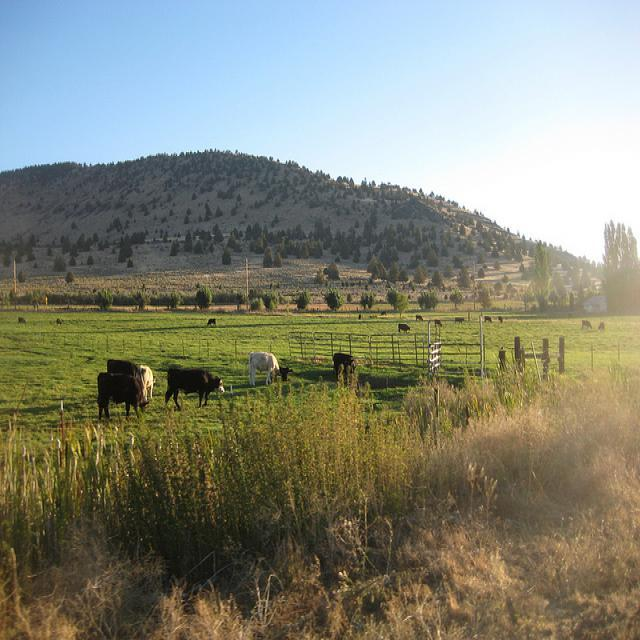cow: (94, 369, 147, 420), (163, 367, 223, 408), (248, 351, 291, 385), (105, 357, 140, 380), (331, 351, 352, 377), (138, 364, 152, 399), (396, 321, 411, 331), (579, 318, 591, 330), (207, 316, 217, 324), (16, 315, 24, 321), (415, 312, 421, 319), (55, 316, 59, 321)
